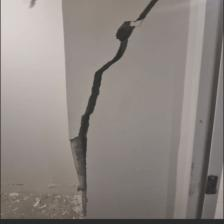High: (66, 1, 161, 218)
